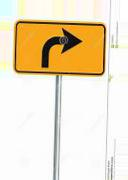right: (11, 18, 106, 77)
